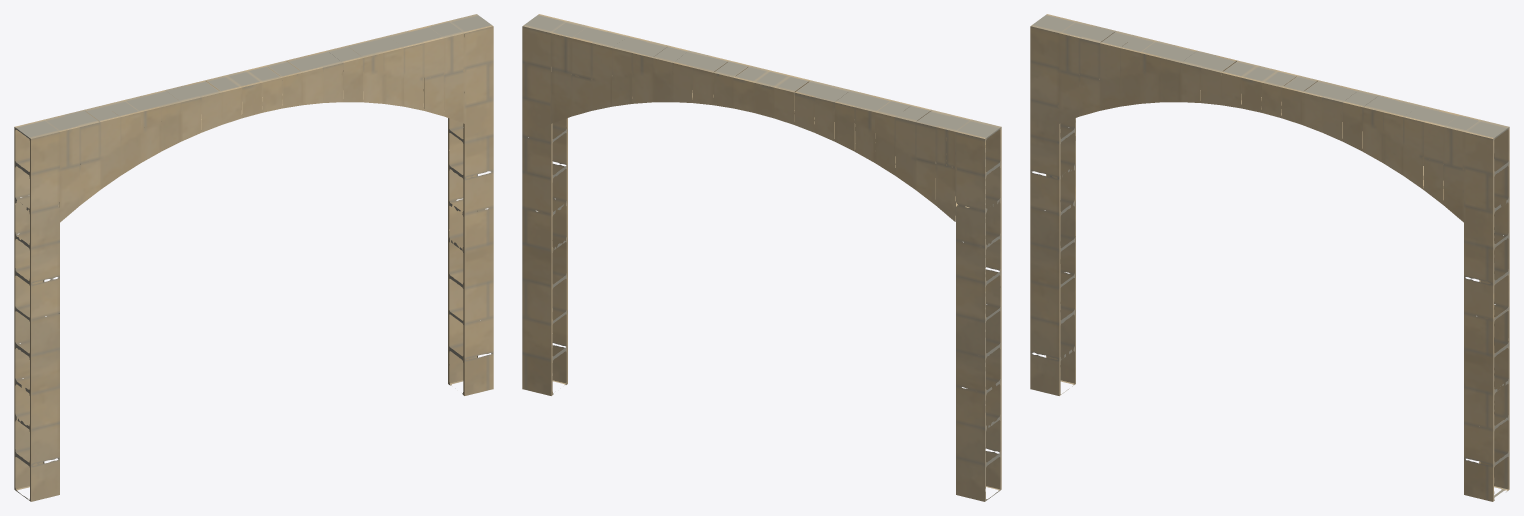
Rendered from limestone-open-arch.fbx.
The picture shows the model from 3 angles, left to right: view 1: azimuth 30°, elevation 25°; view 2: azimuth 150°, elevation 25°; view 3: azimuth 330°, elevation 25°; orthographic projection.
Visible parts, largest first — view 1: limestone-open-arch; view 2: limestone-open-arch; view 3: limestone-open-arch.
Part boxes in pixels (<box>): limestone-open-arch: <box>14,14,493,501</box>; limestone-open-arch: <box>522,14,1001,501</box>; limestone-open-arch: <box>1030,14,1509,501</box>.
Bounding box in the file's own units: 400 × 300 × 25.
